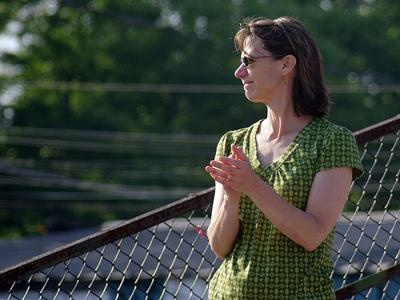person without safety: (205, 16, 347, 300)
